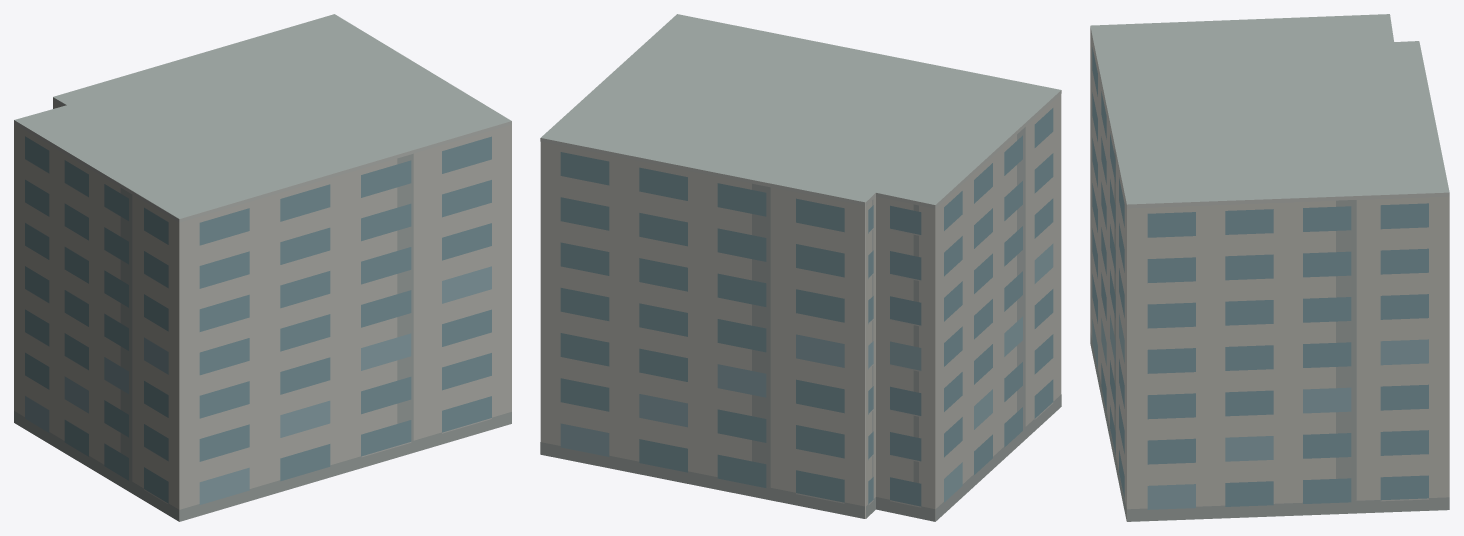
Rendered from survey-upis-33042722.glb.
The picture shows the model from 3 angles, left to right: view 1: azimuth 30°, elevation 25°; view 2: azimuth 150°, elevation 25°; view 3: azimuth 270°, elevation 25°; orthographic projection. The views are drawn at different scales.
Parts seen in each view (by area): view 1: survey-upis-33042722.tmp; view 2: survey-upis-33042722.tmp; view 3: survey-upis-33042722.tmp.
Part boxes in pixels (bbox=[...]): survey-upis-33042722.tmp: bbox=[14, 14, 511, 521]; survey-upis-33042722.tmp: bbox=[540, 14, 1061, 521]; survey-upis-33042722.tmp: bbox=[1090, 14, 1449, 521].
Size of the model in its own units: 26.16 by 20.32 by 20.86.
